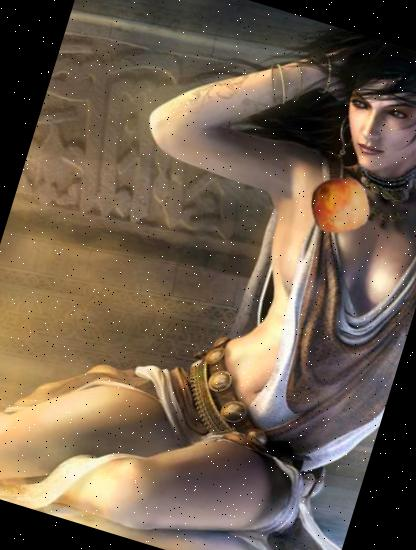Peach: (302, 168, 376, 242)
